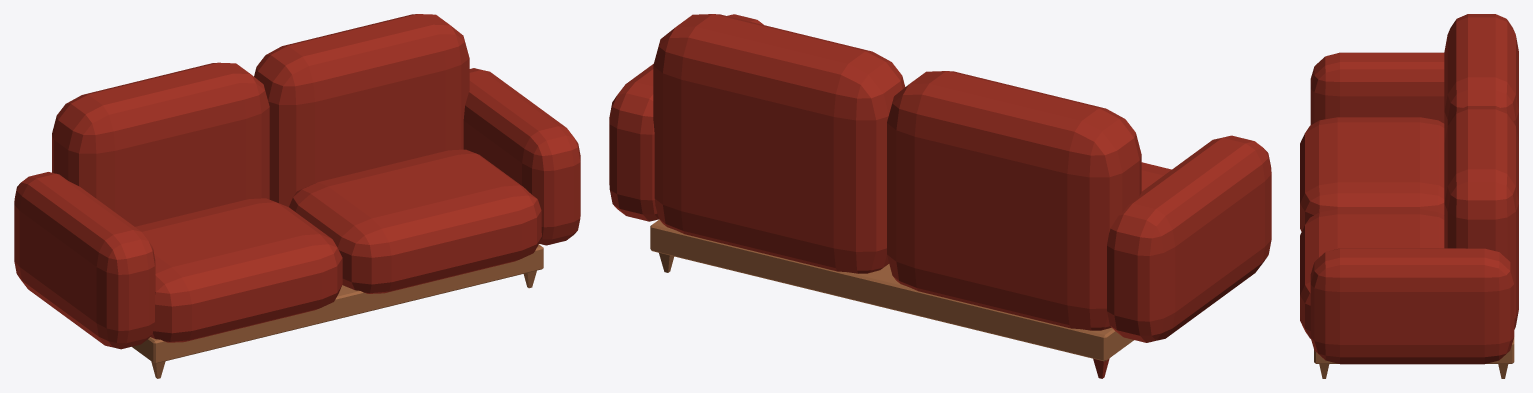
The model's file is Sofa A.glb.
3 views of the same model, side by side, from view 1: azimuth 30°, elevation 25°; view 2: azimuth 150°, elevation 25°; view 3: azimuth 270°, elevation 25° (orthographic). The views are drawn at different scales.
Parts seen in each view (by area): view 1: Sofa A; view 2: Sofa A; view 3: Sofa A.
Part boxes in pixels (x1=…): Sofa A: x1=14, y1=14, x2=580, y2=378; Sofa A: x1=609, y1=14, x2=1271, y2=378; Sofa A: x1=1300, y1=14, x2=1518, y2=378.
Size of the model in its own units: 1040 by 440 by 437.
